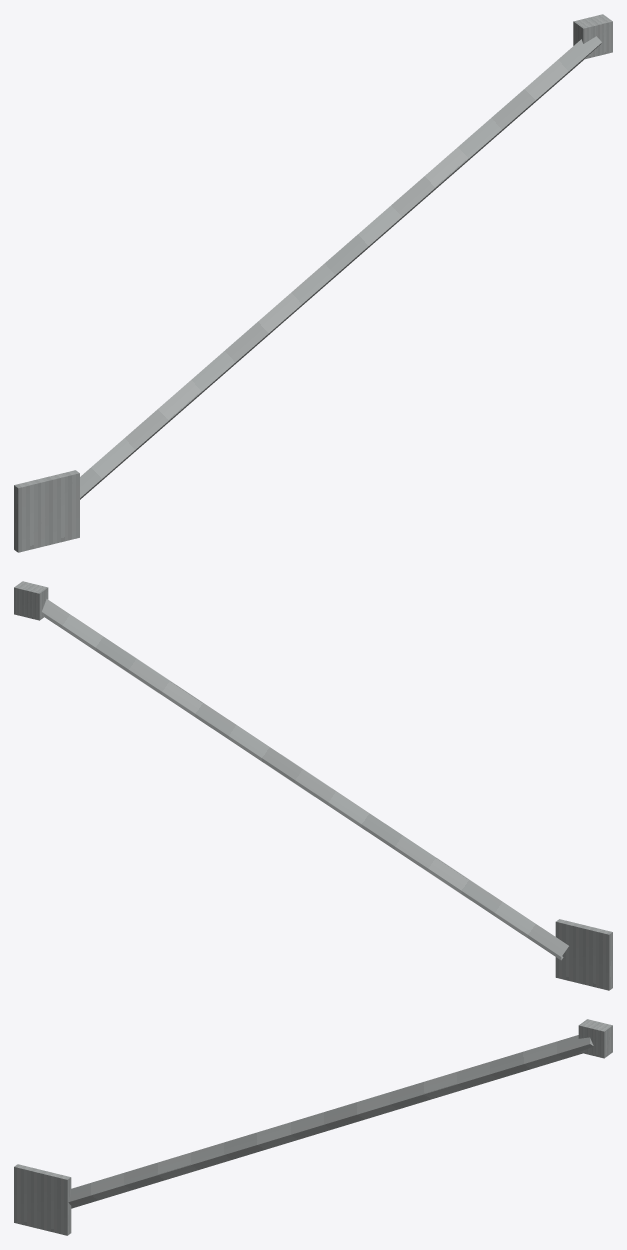
File: brace_r.obj
3 renders of one model, top to bottom at view 1: azimuth 30°, elevation 25°; view 2: azimuth 150°, elevation 25°; view 3: azimuth 330°, elevation 25°, orthographic. The views are drawn at different scales.
Visible parts, largest first — view 1: crossarm_alley_metal_5_r; view 2: crossarm_alley_metal_5_r; view 3: crossarm_alley_metal_5_r.
Boxes of the visible parts, x1,y1,x2,y2 form: crossarm_alley_metal_5_r: (14,14,612,552); crossarm_alley_metal_5_r: (14,581,612,990); crossarm_alley_metal_5_r: (14,1019,612,1235).
Size of the model in its own units: 3.23 by 1.67 by 0.4625.
